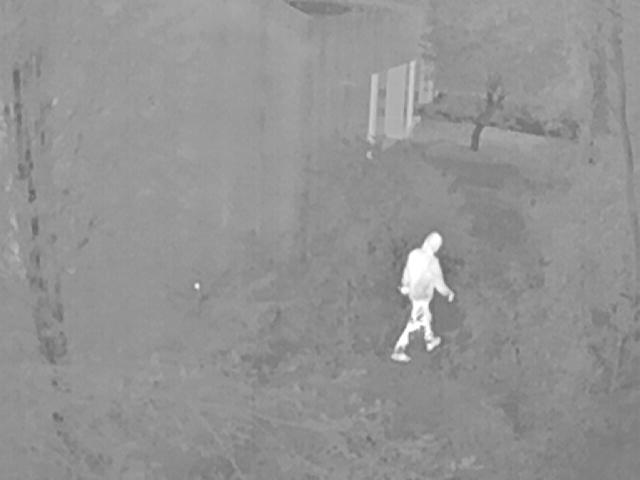person: (392, 230, 456, 363)
